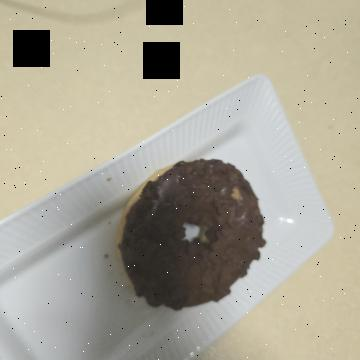doughnut: (140, 80, 312, 253)
